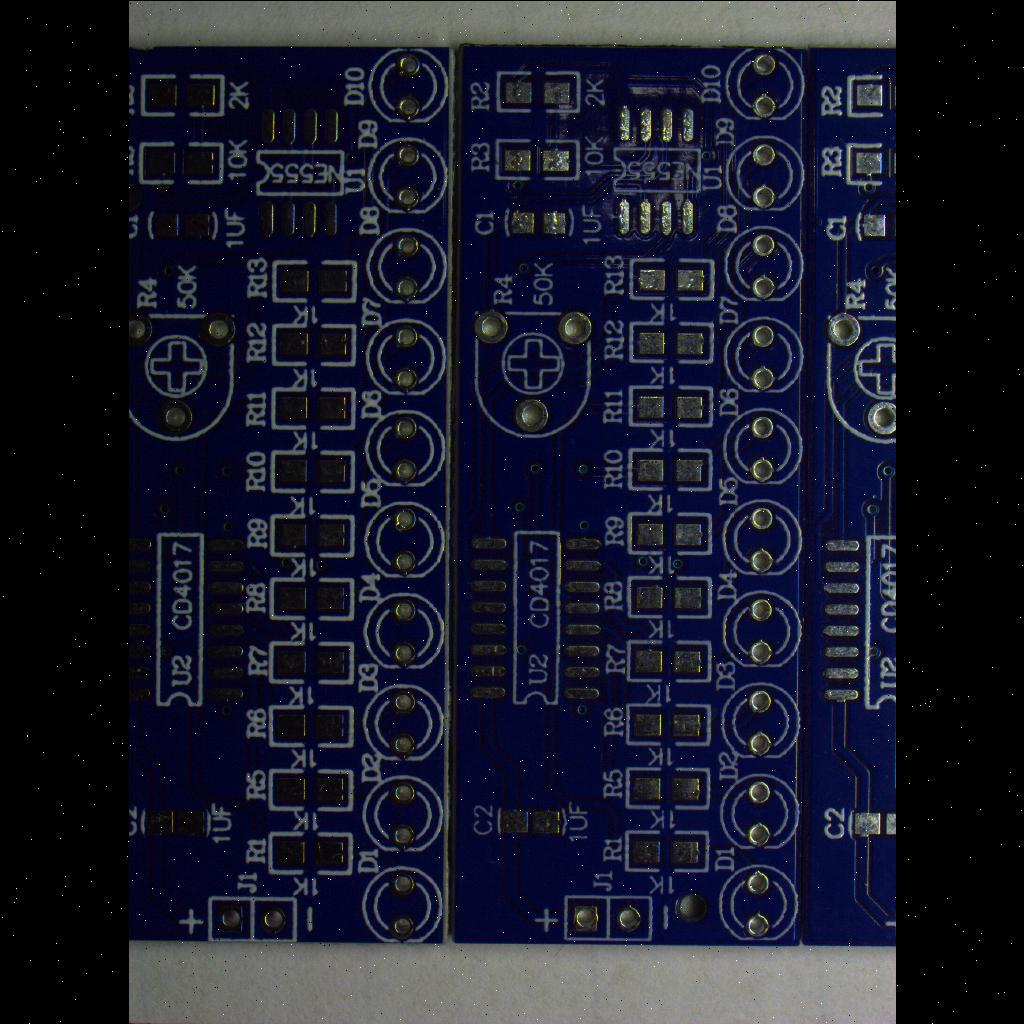NG: (460, 522, 616, 718), (128, 518, 254, 710), (812, 514, 892, 714), (249, 95, 351, 241), (608, 94, 706, 242), (134, 134, 228, 190), (266, 252, 362, 306), (267, 316, 361, 370), (264, 508, 358, 562), (136, 66, 230, 120), (624, 438, 718, 492), (266, 441, 360, 495), (264, 634, 356, 688), (627, 314, 719, 368), (624, 508, 718, 560), (490, 133, 584, 185), (264, 698, 356, 750), (623, 697, 715, 749), (265, 825, 357, 877), (623, 634, 715, 686), (265, 572, 357, 624), (625, 570, 715, 622), (266, 379, 356, 431), (264, 762, 354, 814), (626, 378, 718, 428), (493, 66, 585, 116), (622, 761, 712, 811), (622, 826, 712, 874), (627, 255, 717, 303), (138, 796, 218, 844), (490, 798, 572, 842), (142, 200, 222, 244), (502, 202, 580, 242), (844, 68, 896, 120), (844, 140, 896, 186), (846, 802, 896, 844), (854, 202, 896, 246)
